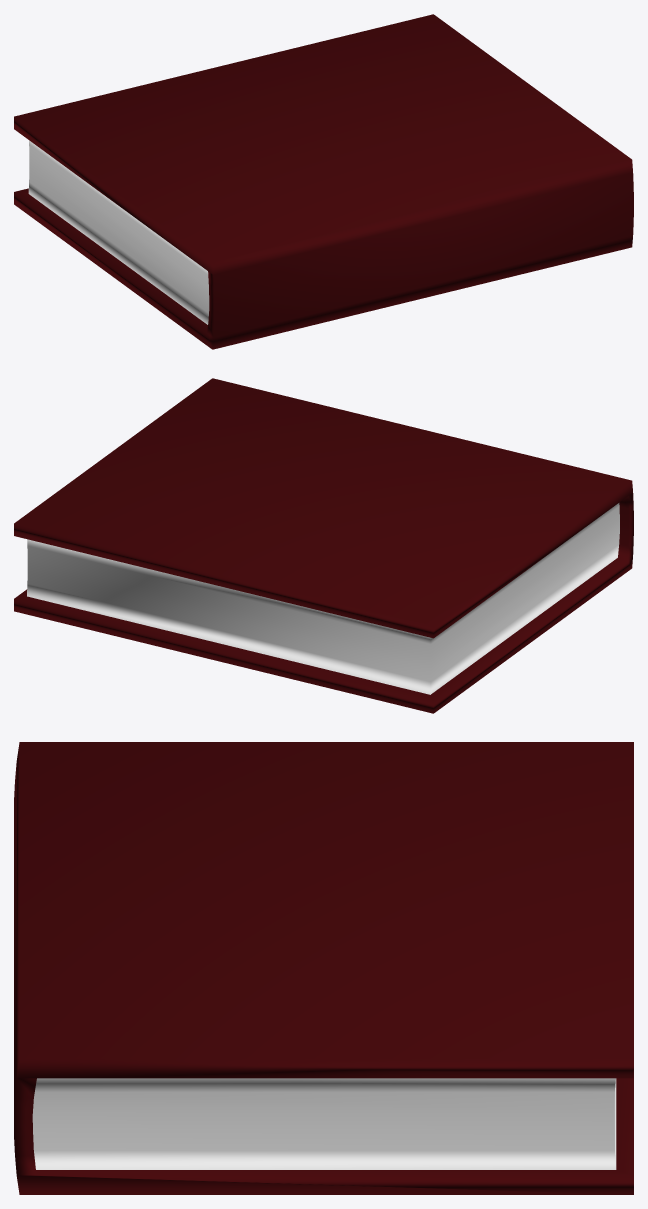
The model's file is Book1.fbx.
3 views of the same model, one above another, from view 1: azimuth 30°, elevation 25°; view 2: azimuth 150°, elevation 25°; view 3: azimuth 270°, elevation 25° (orthographic). The views are drawn at different scales.
Visible parts, largest first — view 1: Cube; view 2: Cube; view 3: Cube.
Part boxes in pixels (x1=…): Cube: x1=14, y1=14, x2=633, y2=349; Cube: x1=14, y1=378, x2=633, y2=713; Cube: x1=14, y1=742, x2=633, y2=1194.
Size of the model in its own units: 30 by 6 by 24.81.
